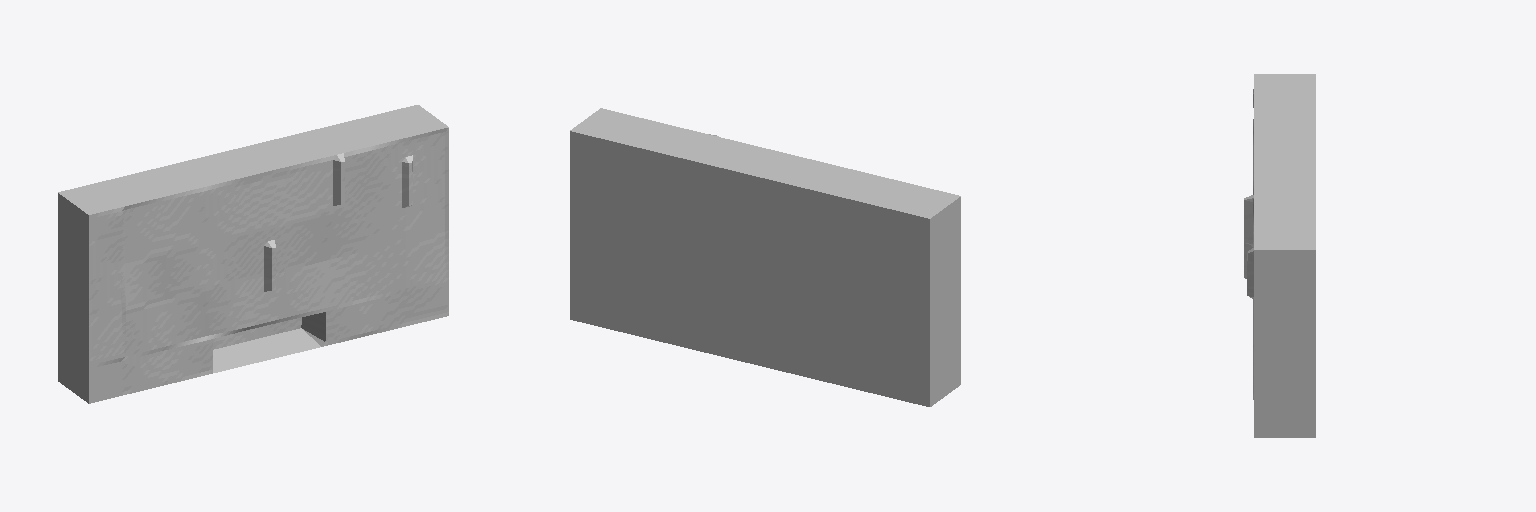
The model's file is rectangular_prism_bumps_3_2.obj.
3 renders of one model, left to right at view 1: azimuth 30°, elevation 25°; view 2: azimuth 150°, elevation 25°; view 3: azimuth 270°, elevation 25°, orthographic.
Bounding box in the file's own units: 10 × 5 × 1.74.